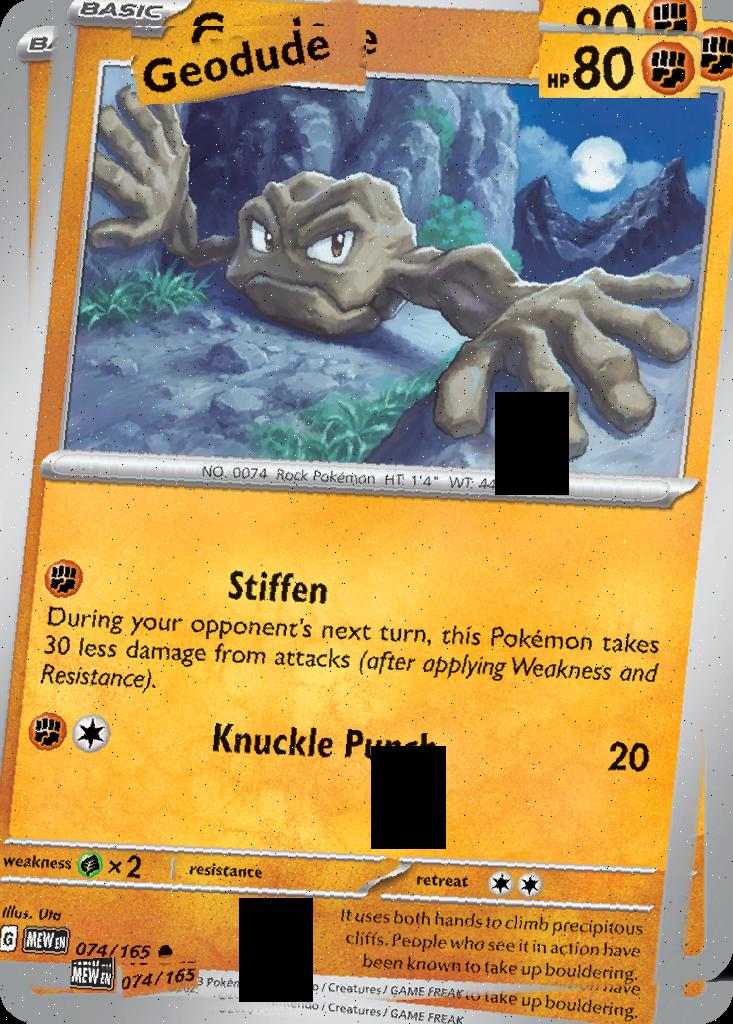card: (0, 0, 733, 1024)
hp: (539, 22, 703, 98)
name: (131, 26, 366, 105)
set num: (122, 964, 199, 999)
set symbol: (70, 964, 117, 993)
